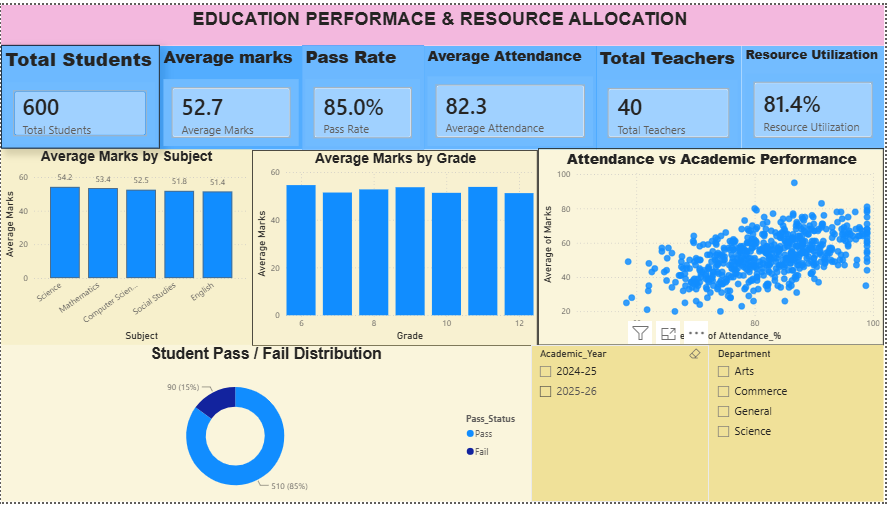

What the dashboard file says about the page in this screenshot:
{"tool":"powerbi","page":{"name":"Education_Overview","canvas":[1280,720],"ordinal":0},"visuals":[{"type":"textbox","box":[0,0,1280,59.2],"z":0},{"type":"cardVisual","title":"Total Students","fields":{"Data":["Student_Performance.Total Students"]},"box":[0,57.8,229.8,150],"z":1000},{"type":"cardVisual","title":"Average marks","fields":{"Data":["Student_Performance.Average Marks"]},"box":[229.8,59.2,206.5,150],"z":2000},{"type":"cardVisual","title":"Pass Rate","fields":{"Data":["Student_Performance.Pass Rate"]},"box":[436.2,58,176.8,152.2],"z":3000},{"type":"cardVisual","title":"Average Attendance ","fields":{"Data":["Student_Performance.Average Attendance"]},"box":[612.5,59.2,250,150],"z":4000},{"type":"cardVisual","title":"Total Teachers","fields":{"Data":["Student_Performance.Total Teachers"]},"box":[863,59.2,210.6,150],"z":5000},{"type":"cardVisual","title":"Resource Utilization","fields":{"Data":["Resource_Allocation.Resource Utilization"]},"box":[1073.5,59.2,206.5,150],"z":6000},{"type":"clusteredColumnChart","fields":{"Category":["Student_Performance.Subject"],"Y":["Student_Performance.Average Marks"]},"box":[0,208.7,363.8,284.1],"z":7000},{"type":"clusteredColumnChart","fields":{"Category":["Student_Performance.Grade"],"Y":["Student_Performance.Average Marks"]},"box":[363.8,210.1,414.3,283.5],"z":8000},{"type":"scatterChart","title":"Attendance vs Academic Performance ","fields":{"X":["Avg(Student_Performance.Attendance_%)"],"Y":["Avg(Student_Performance.Marks)"],"Category":["Student_Performance.Student_ID"]},"box":[778.3,207.2,501.4,285.5],"z":9000},{"type":"donutChart","title":"Student Pass / Fail Distribution ","fields":{"Category":["Student_Performance.Pass_Status"],"Y":["CountNonNull(Student_Performance.Student_ID)"]},"box":[0,492.7,768,227.1],"z":10000},{"type":"slicer","fields":{"Values":["Student_Performance.Academic_Year"]},"box":[768,492.7,258.8,227.1],"z":11000},{"type":"slicer","fields":{"Values":["Student_Performance.Department"]},"box":[1026.8,492.7,253.2,227.1],"z":12000}]}

Visuals, with their boxes in screenshot pixels (x1, y1, x2, y2), scaled from the page's 1280x720 canvas onto the 888x505 screenshot:
textbox: {"left": 0, "top": 0, "right": 887, "bottom": 42}
"Total Students" cardVisual: {"left": 0, "top": 41, "right": 159, "bottom": 146}
"Average marks" cardVisual: {"left": 159, "top": 42, "right": 303, "bottom": 147}
"Pass Rate" cardVisual: {"left": 303, "top": 41, "right": 425, "bottom": 147}
"Average Attendance " cardVisual: {"left": 425, "top": 42, "right": 598, "bottom": 147}
"Total Teachers" cardVisual: {"left": 599, "top": 42, "right": 745, "bottom": 147}
"Resource Utilization" cardVisual: {"left": 745, "top": 42, "right": 887, "bottom": 147}
clusteredColumnChart - Student_Performance.Subject x Student_Performance.Average Marks: {"left": 0, "top": 146, "right": 252, "bottom": 346}
clusteredColumnChart - Student_Performance.Grade x Student_Performance.Average Marks: {"left": 252, "top": 147, "right": 540, "bottom": 346}
"Attendance vs Academic Performance " scatterChart: {"left": 540, "top": 145, "right": 887, "bottom": 346}
"Student Pass / Fail Distribution " donutChart: {"left": 0, "top": 346, "right": 533, "bottom": 504}
slicer - Student_Performance.Academic_Year: {"left": 533, "top": 346, "right": 712, "bottom": 504}
slicer - Student_Performance.Department: {"left": 712, "top": 346, "right": 887, "bottom": 504}
